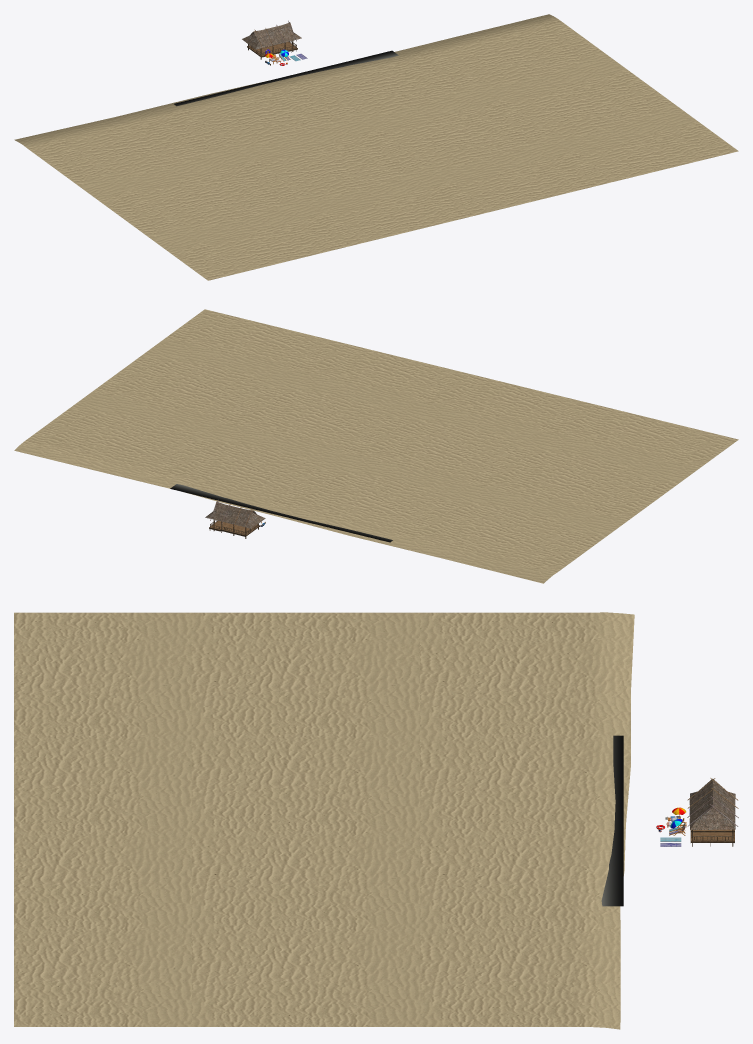
Rendered from Beach_assets.fbx.
The picture shows the model from 3 angles, top to bottom: view 1: azimuth 30°, elevation 25°; view 2: azimuth 150°, elevation 25°; view 3: azimuth 270°, elevation 25°; orthographic projection. The views are drawn at different scales.
Parts seen in each view (by area): view 1: sand_base1, New_hut, water_shade; view 2: sand_base1, New_hut, water_shade; view 3: sand_base1, New_hut, water_shade.
Boxes of the visible parts, bbox=[...] form: sand_base1: bbox=[14, 14, 738, 280]; New_hut: bbox=[242, 20, 301, 59]; water_shade: bbox=[174, 50, 398, 106]; sand_base1: bbox=[14, 309, 738, 583]; New_hut: bbox=[205, 500, 265, 538]; water_shade: bbox=[170, 484, 392, 542]; sand_base1: bbox=[14, 612, 634, 1029]; New_hut: bbox=[687, 778, 738, 846]; water_shade: bbox=[601, 735, 623, 906].
Bounding box in the file's own units: 11771 × 601 × 8708.
